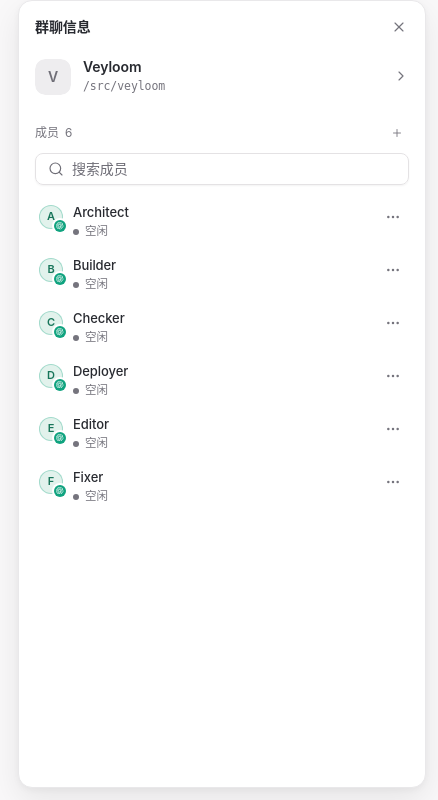
Scenario: MembersPanel › searches the members once there are many
The image size is (438, 800).
Expected: the text "Fixer" is shown, [73,468,103,486]
Step 1. Type "er" into the search field with placeholder "搜索成员" → [236, 169], box [64,151,408,187]
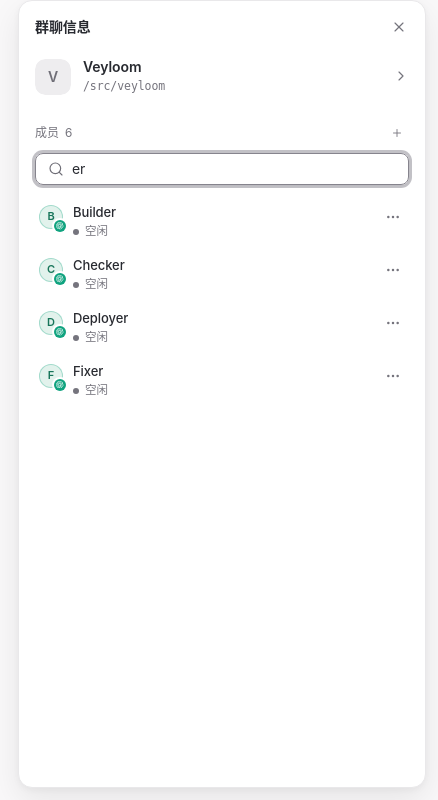
Step 2. Type "zzz" into the search field named "搜索成员" → [236, 169], box [64,151,408,187]
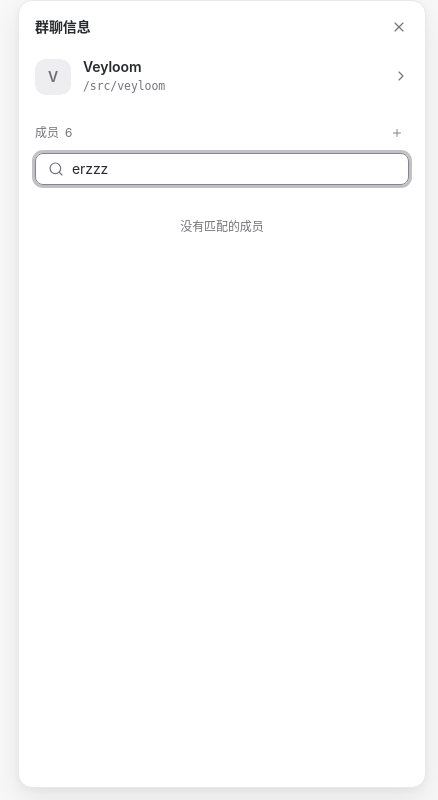
Expected: the text "没有匹配的成员" is shown, [180,219,264,234]
